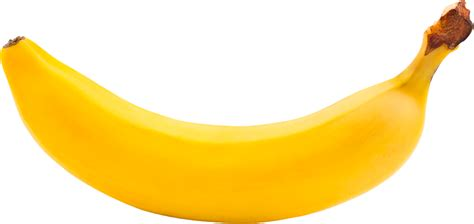???: (1, 1, 474, 223)
